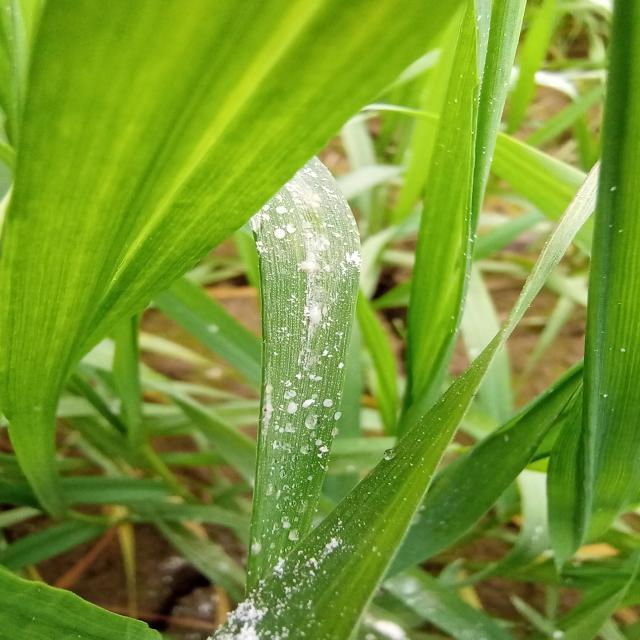Powdery Mildew: (239, 149, 351, 640)
